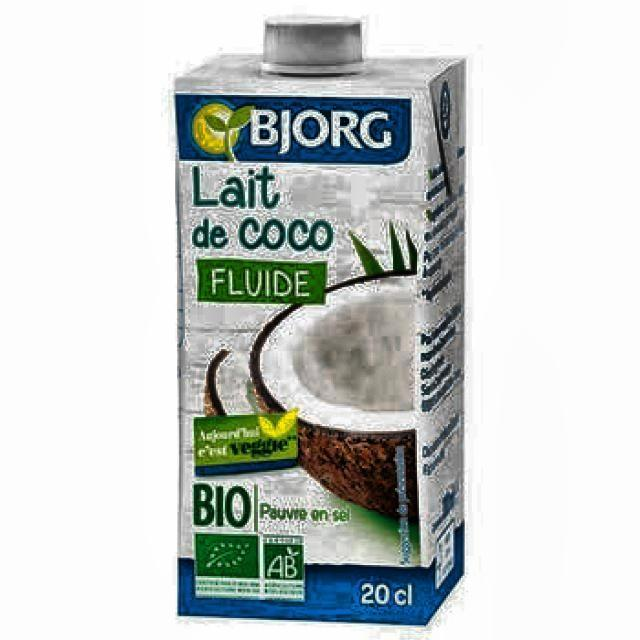cardboard: (172, 17, 466, 626)
